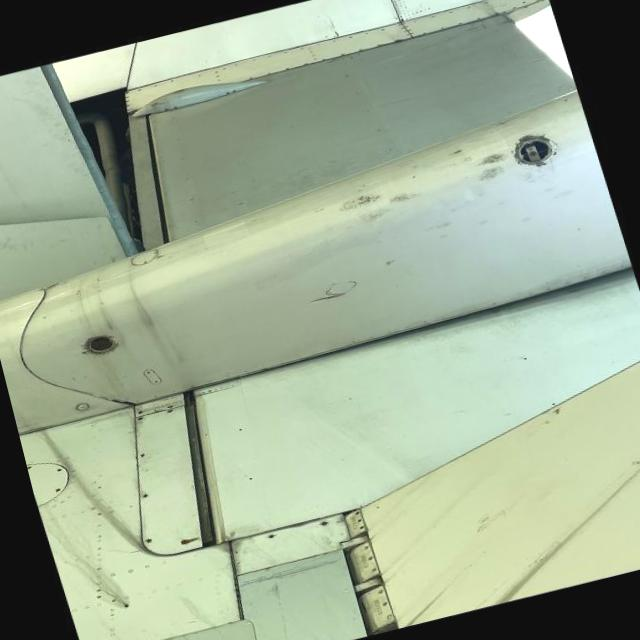crack: (294, 286, 348, 312)
